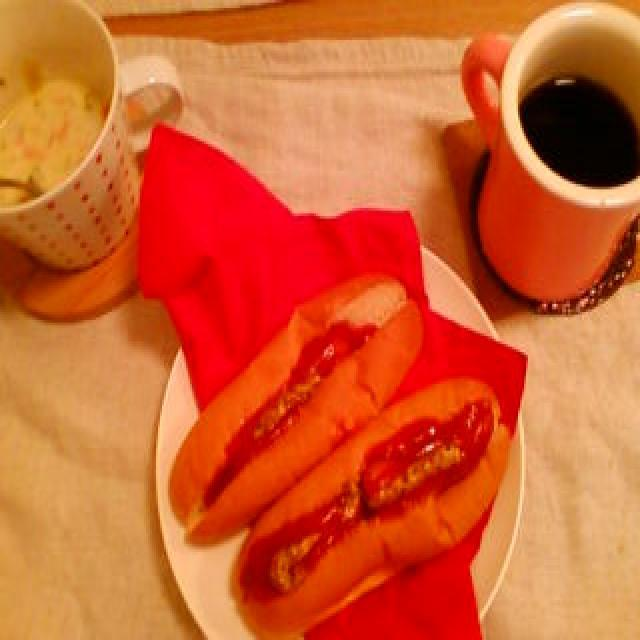Hot Dog: (216, 380, 510, 632), (174, 265, 422, 549)
